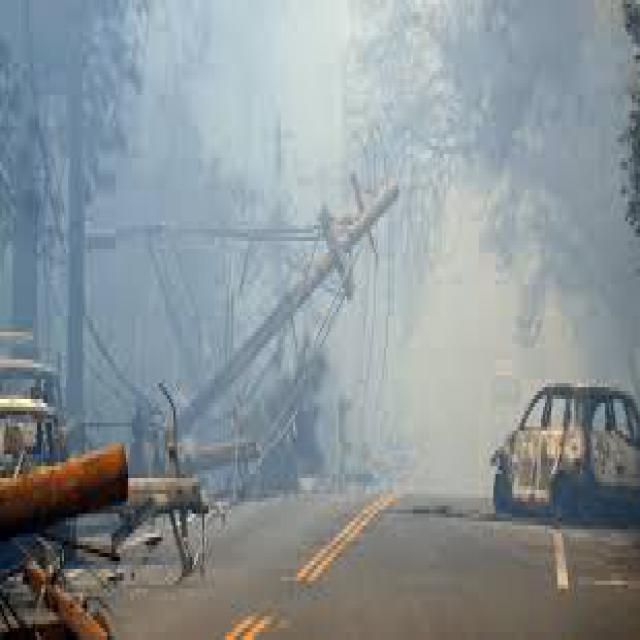Smoke: (106, 26, 538, 410)
